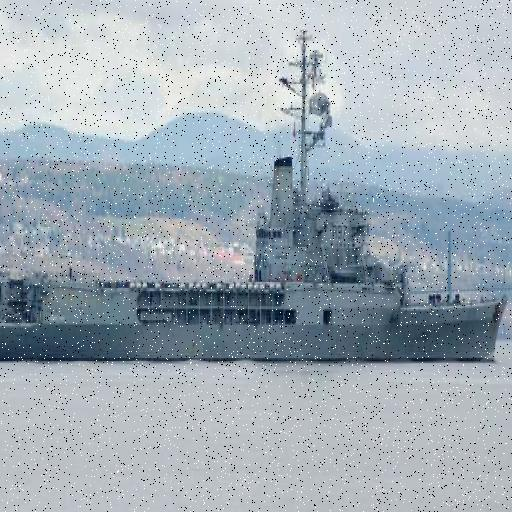Portanaves: (1, 10, 509, 365)
